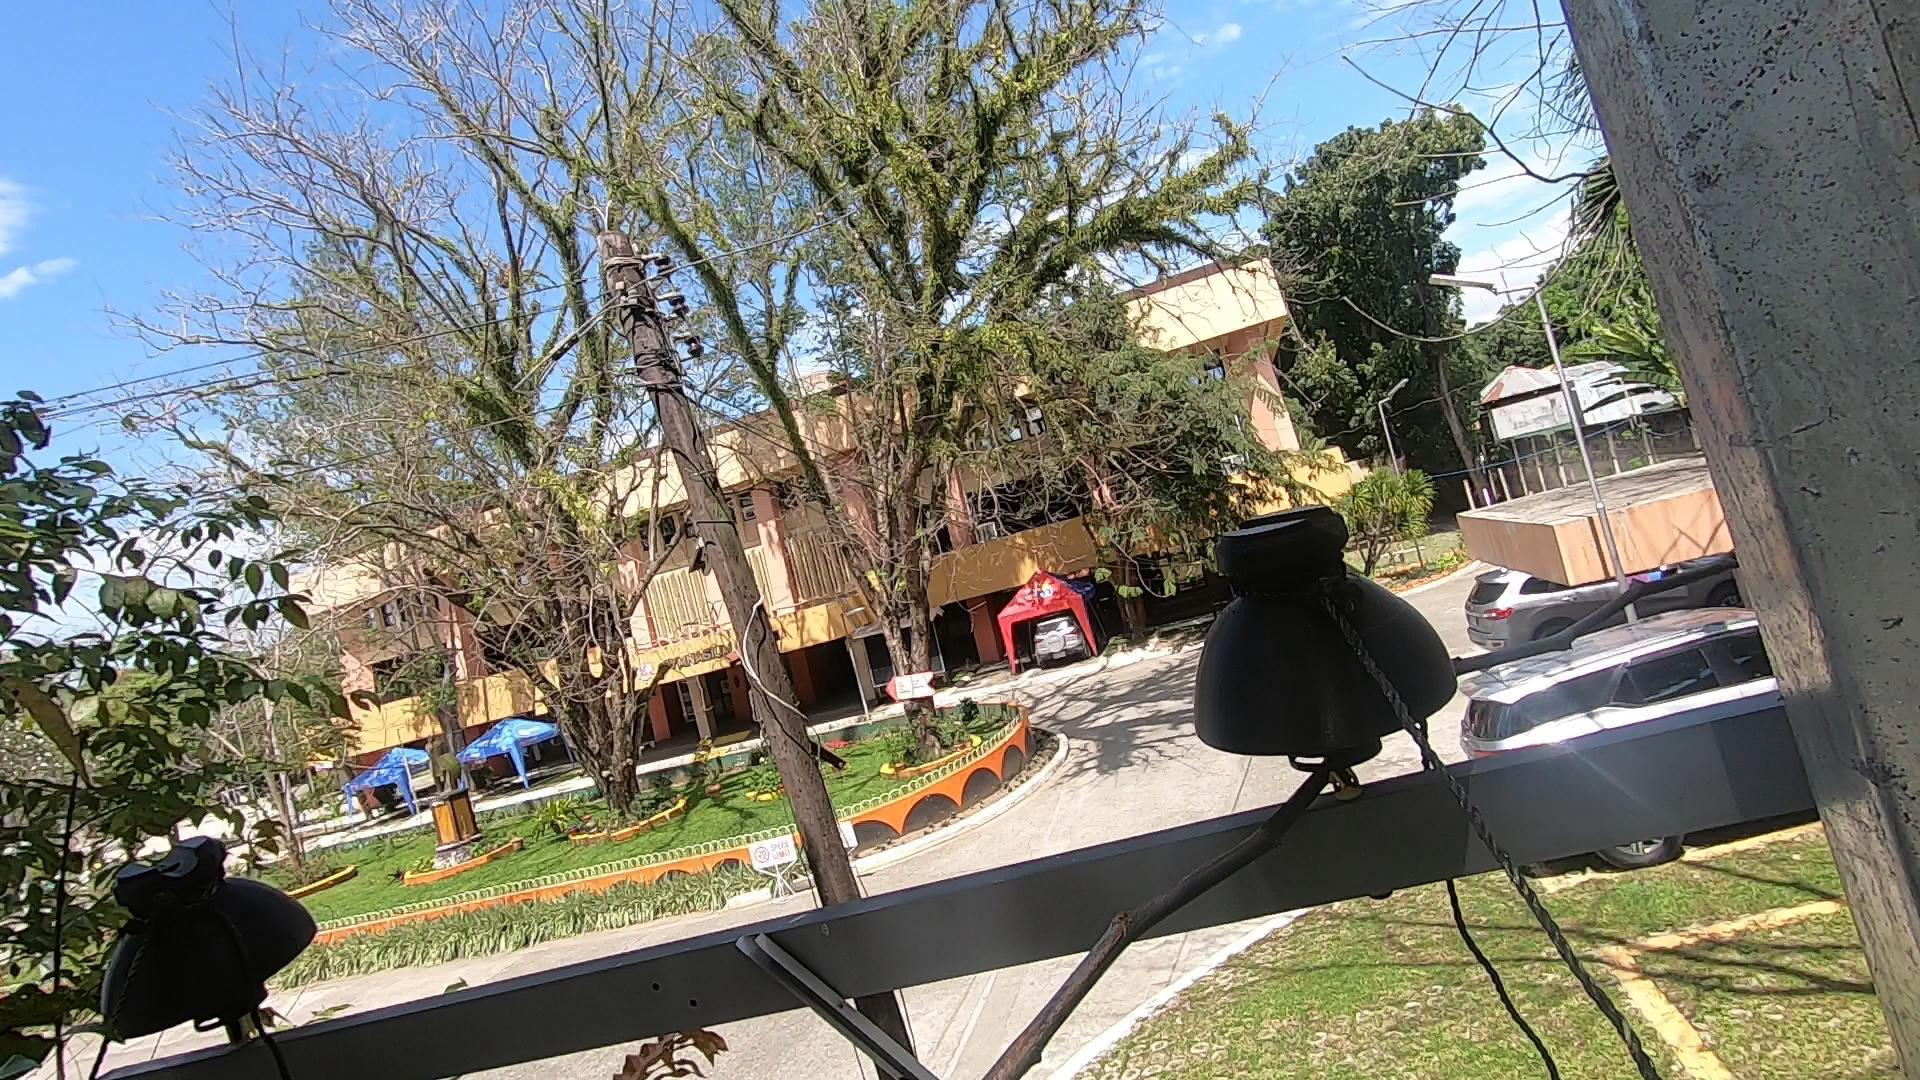tree branch: (877, 535, 1792, 1080)
